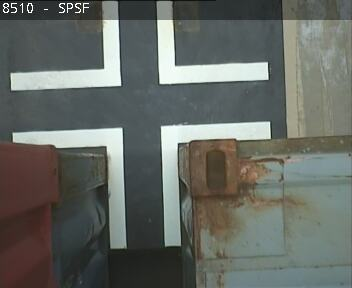groundmarker_1: (12, 119, 273, 247), (9, 1, 268, 92)
